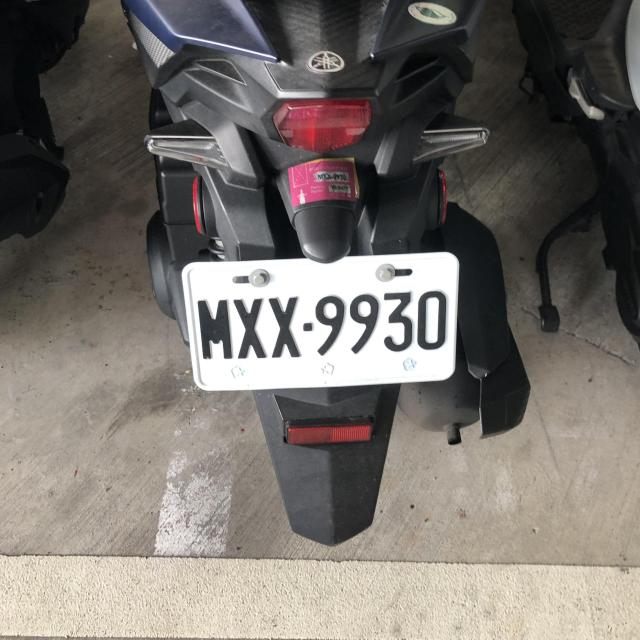W: (180, 246, 462, 396)
